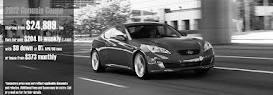car: (91, 20, 218, 83)
